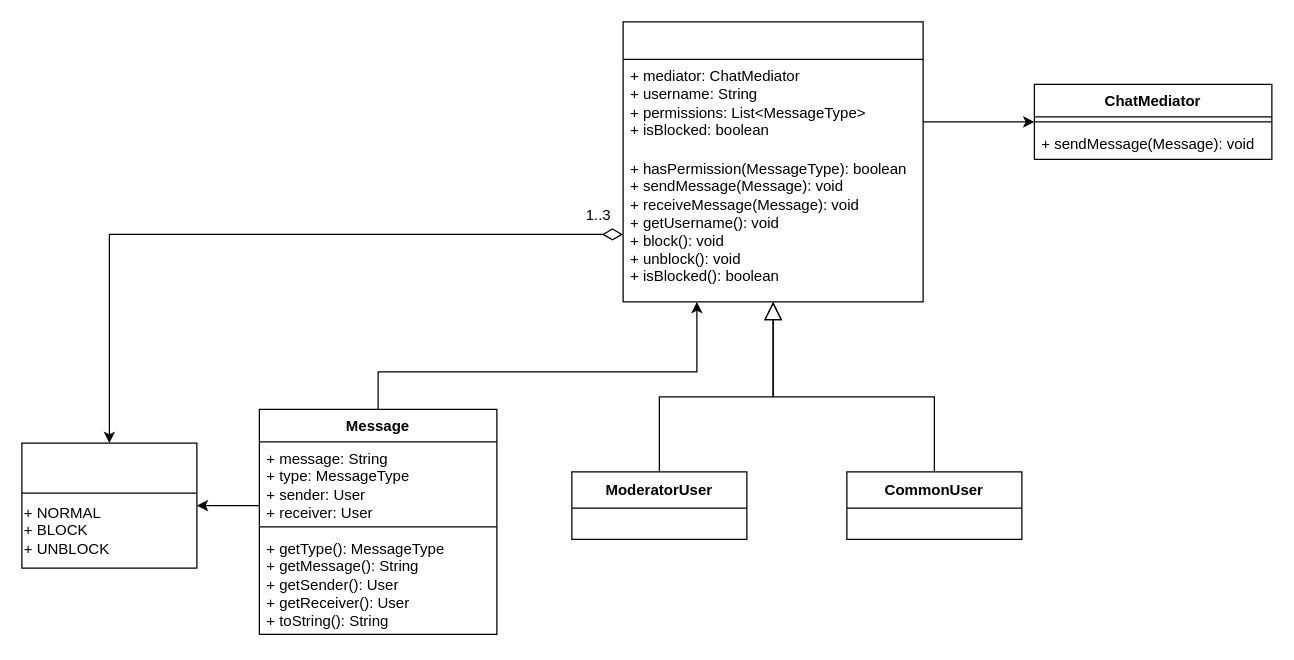
This 1294x660 diagram has some shape labels left out. Each missing label, with the box of its shape:
<<abstract>> User: (622, 21, 923, 302)
<<enum>> MessageType: (21, 442, 197, 568)
